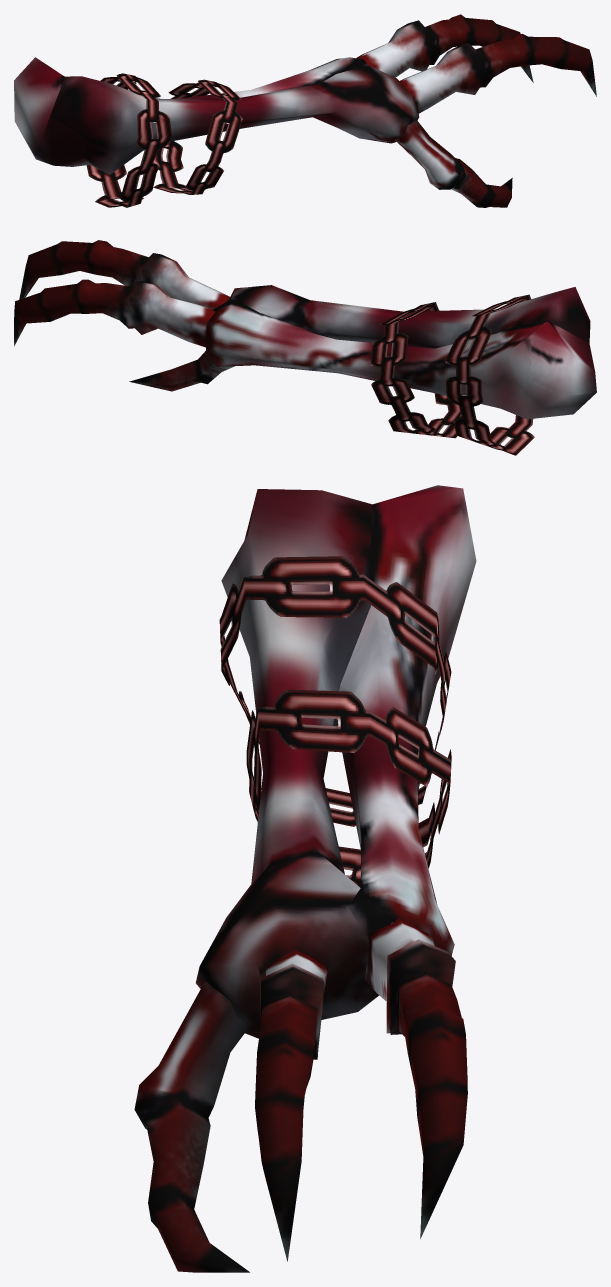
File: WP_0H_Claw_Bone.FBX
3 renders of one model, top to bottom at view 1: azimuth 30°, elevation 25°; view 2: azimuth 150°, elevation 25°; view 3: azimuth 270°, elevation 25°, orthographic. The views are drawn at different scales.
Visible parts, largest first — view 1: WP_0H_Claw_Bone; view 2: WP_0H_Claw_Bone; view 3: WP_0H_Claw_Bone.
Boxes of the visible parts, x1,y1,x2,y2 form: WP_0H_Claw_Bone: [14, 14, 596, 207]; WP_0H_Claw_Bone: [14, 240, 596, 455]; WP_0H_Claw_Bone: [134, 485, 476, 1272].
Bounding box in the file's own units: 91.87 × 32.41 × 24.78.
